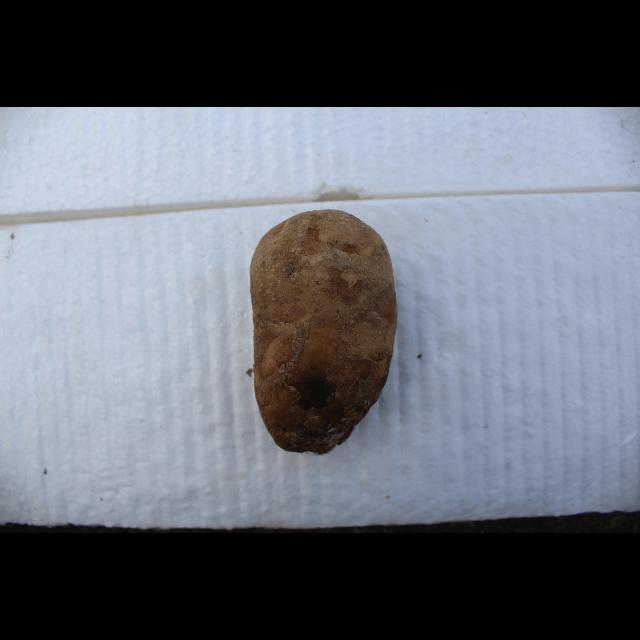Diseased-fungal potato: (243, 206, 402, 459)
